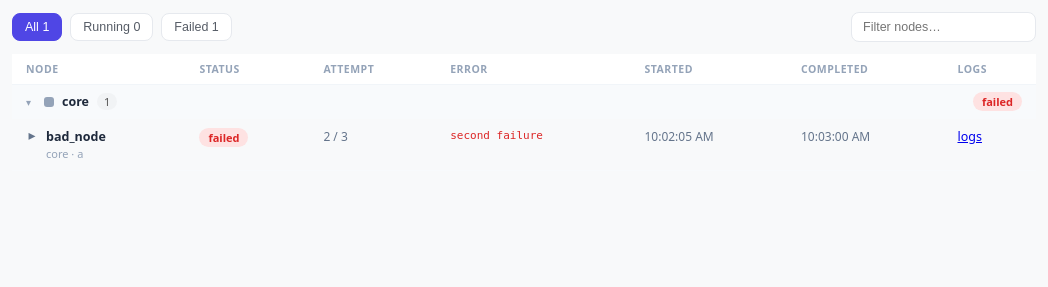
Test: RunNodeTable › expands a task row into every attempt with its status, class · reason, wait, run time and log
Check: the text "second failure" is shown, box [450,129,543,142]
Step 1. Click the button "bad_node" → (524, 144), box [12,118,1036,170]
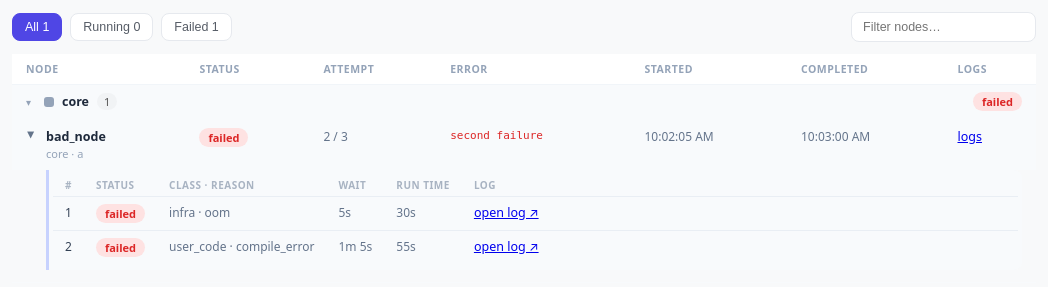
Check: the button "bad_node" is expanded
Check: the element with class "remediation-attempts" is shown, box [46,170,1022,270]
Check: the column headings read "#", "Status", "Class · reason", "Wait", "Run time", "Log", in this order, box [53,172,84,196]; [84,172,157,196]; [157,172,326,196]; [326,172,384,196]; [384,172,462,196]; [462,172,1018,196]
Note: Enter on the row closes it again (Grouped table rows keyboard contract).
Step 2. Press Enter in the button "bad_node", box [12,118,1036,170]
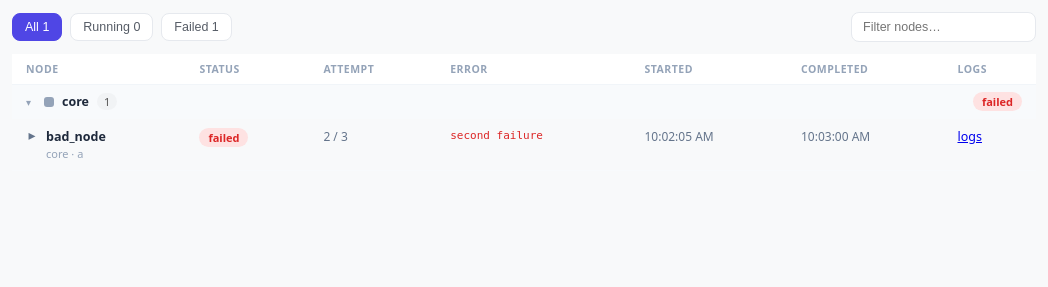
Check: the element with class "remediation-attempts" is gone
